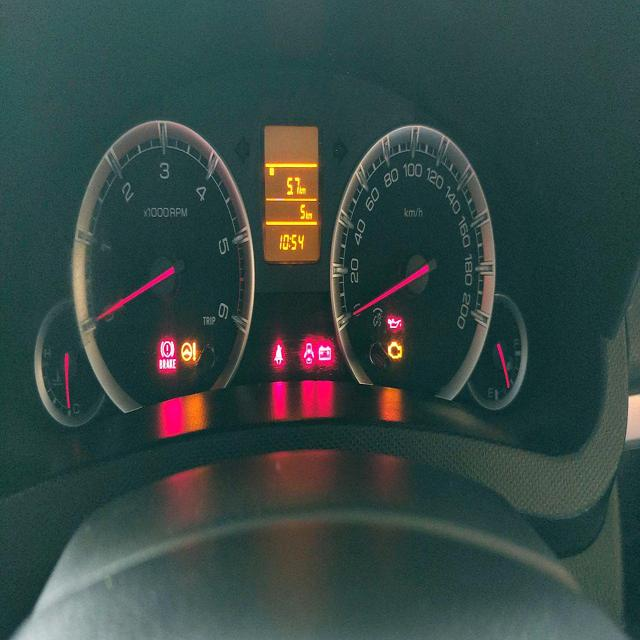odometer: (294, 200, 315, 222)
